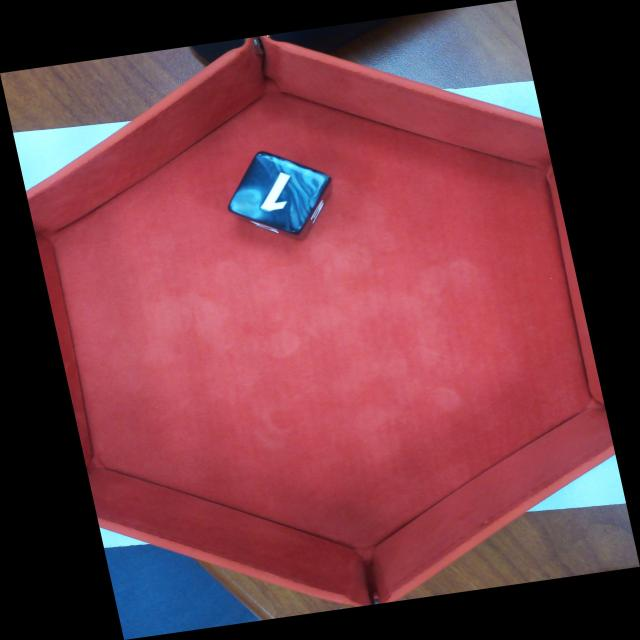dice: (225, 150, 335, 237)
